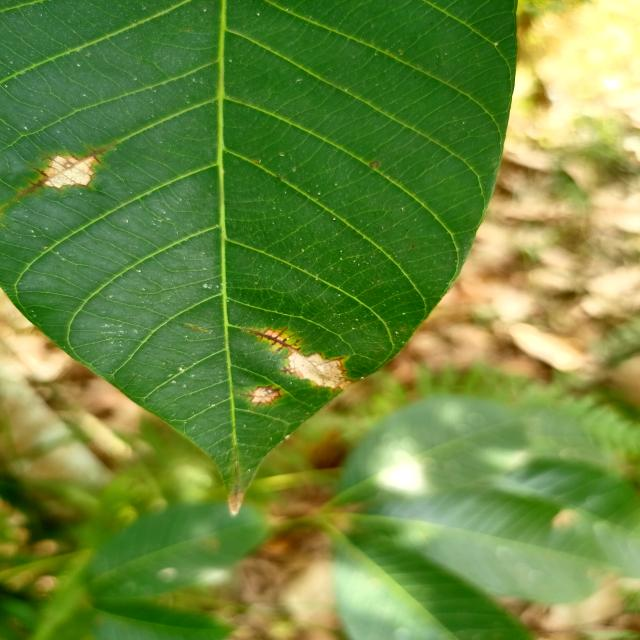Corynespora: (16, 142, 114, 198), (240, 325, 306, 355), (233, 384, 286, 409)
Leaf-Blight: (288, 354, 351, 391), (44, 157, 96, 189), (252, 388, 278, 404)
